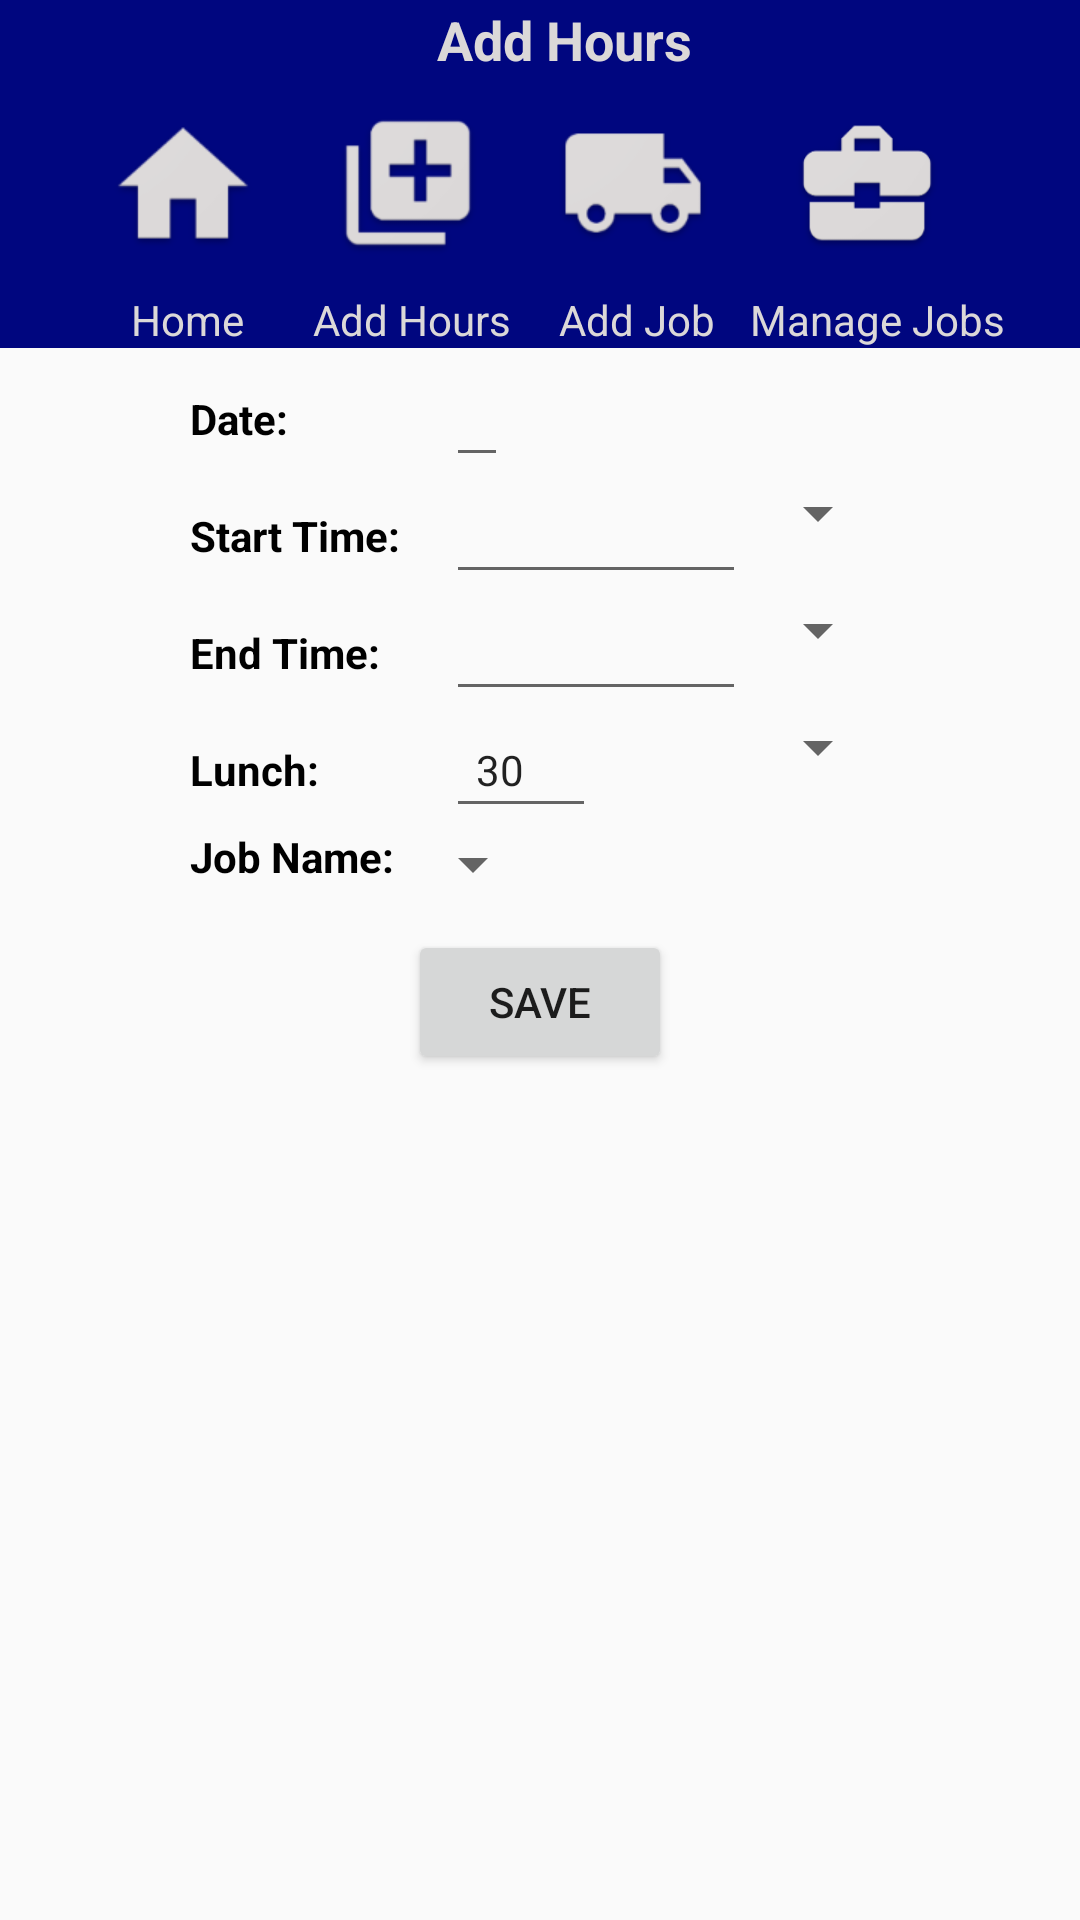

Icon click points for this 1080px×1920px phone screenshot, format (x,y):
job manager: (867,183)
